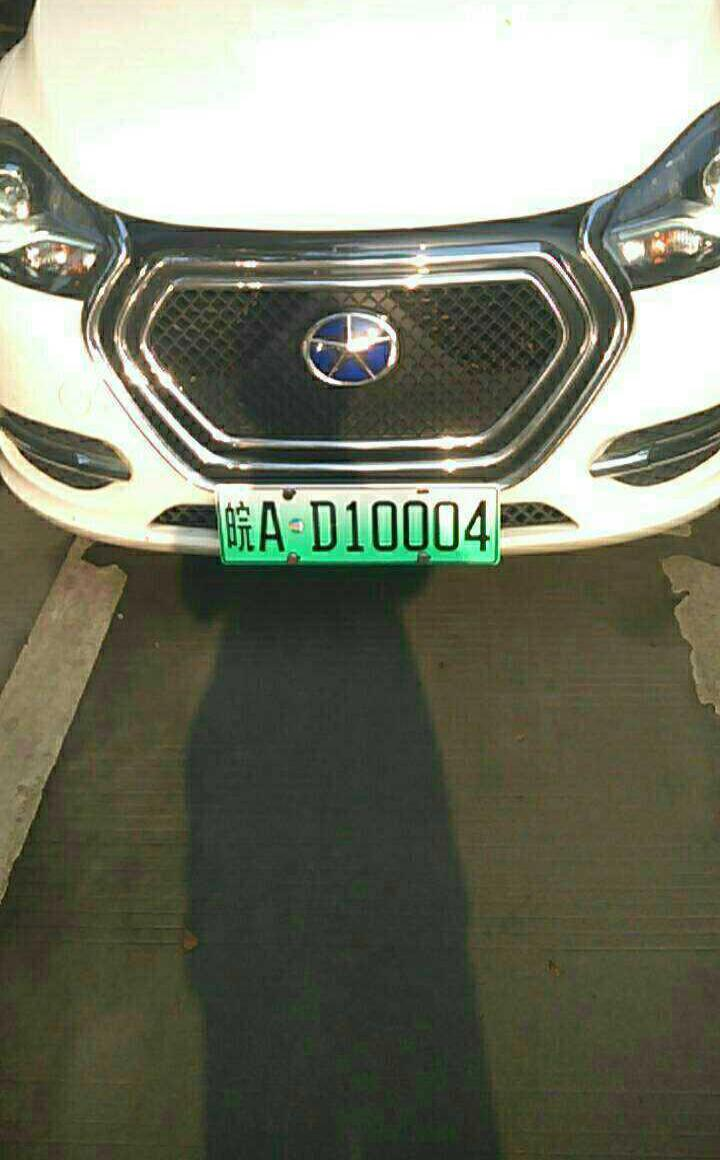car: (216, 484, 513, 578)
